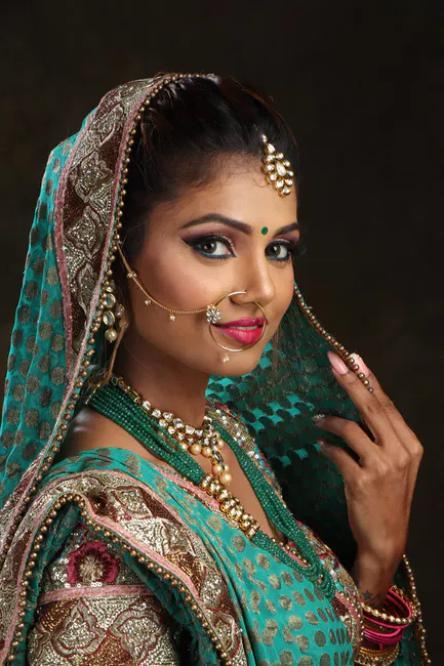face: (149, 146, 299, 377)
